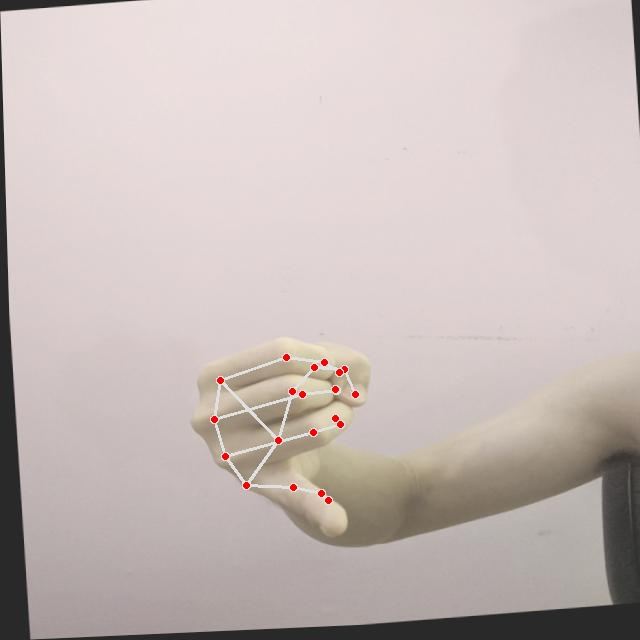J: (167, 325, 391, 561)
